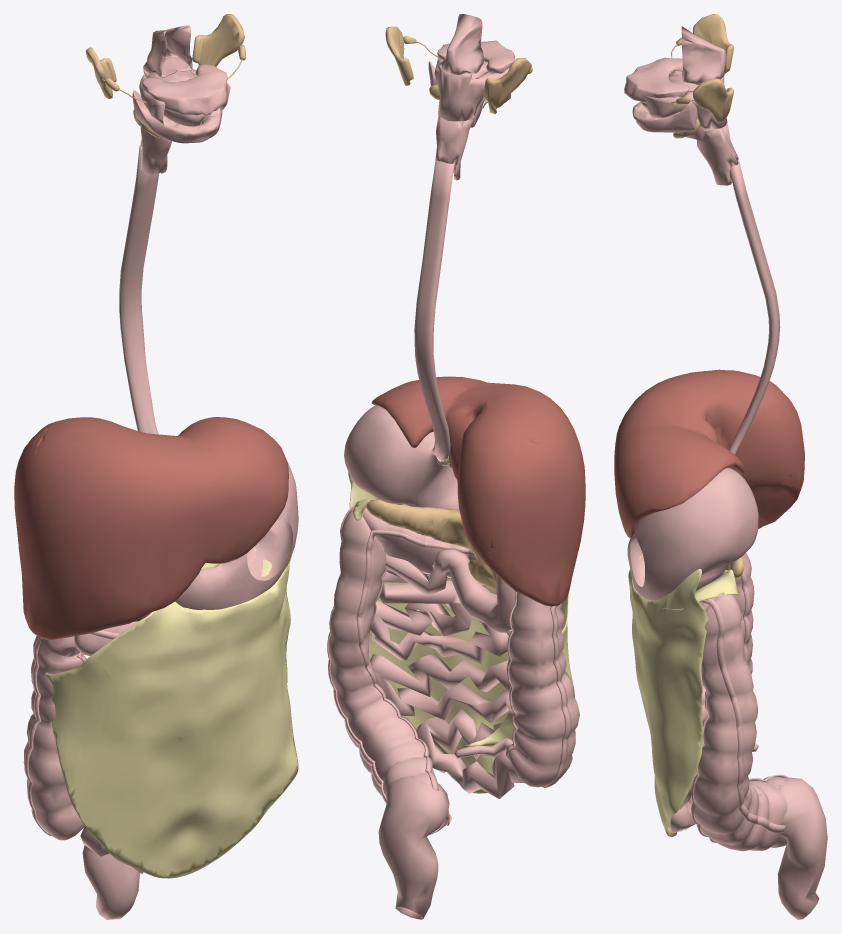
Rendered from digestive.glb.
3 renders of one model, left to right at view 1: azimuth 30°, elevation 25°; view 2: azimuth 150°, elevation 25°; view 3: azimuth 270°, elevation 25°, orthographic. The views are drawn at different scales.
Parts seen in each view (by area): view 1: DIG.greater_omentum.C, DIG.liver.C, DIG.ascending_colon.C, DIG.oesophagus.C, DIG.stomach.C, DIG.gingiva.C, DIG.sigmoid_colon.C, DIG.parotid_gland.L, DIG.nasopharynx.C, DIG.mesocolic_taenia.C, DIG.laryngopharynx.C, DIG.transverse_colon.C (+4 smaller); view 2: DIG.liver.C, DIG.jejunum.C, DIG.descending_colon.C, DIG.ascending_colon.C, DIG.stomach.C, DIG.sigmoid_colon.C, DIG.oesophagus.C, DIG.greater_omentum.C, DIG.pancreas.C, DIG.duodenum.C, DIG.free_taenia.C, DIG.oropharynx.C (+10 smaller); view 3: DIG.liver.C, DIG.greater_omentum.C, DIG.descending_colon.C, DIG.stomach.C, DIG.sigmoid_colon.C, DIG.oesophagus.C, DIG.gingiva.C, DIG.mesocolic_taenia.C, DIG.nasopharynx.C, DIG.laryngopharynx.C, DIG.parotid_gland.L, DIG.oropharynx.C (+5 smaller).
Boxes of the visible parts, x1,y1,x2,y2 form: DIG.greater_omentum.C: (44,553,298,878); DIG.liver.C: (14,417,288,639); DIG.ascending_colon.C: (23,636,84,840); DIG.oesophagus.C: (119,145,158,434); DIG.stomach.C: (175,464,298,609); DIG.gingiva.C: (132,64,227,143); DIG.sigmoid_colon.C: (82,845,139,919); DIG.parotid_gland.L: (192,14,244,66); DIG.nasopharynx.C: (143,25,192,76); DIG.mesocolic_taenia.C: (24,630,119,835); DIG.laryngopharynx.C: (140,127,171,174); DIG.transverse_colon.C: (74,548,255,655); DIG.liver.C: (371,376,585,606); DIG.jejunum.C: (370,553,524,798); DIG.descending_colon.C: (329,507,449,834); DIG.ascending_colon.C: (508,592,579,787); DIG.stomach.C: (344,405,459,510); DIG.sigmoid_colon.C: (378,775,449,919); DIG.oesophagus.C: (414,160,454,461); DIG.greater_omentum.C: (348,472,575,793); DIG.pancreas.C: (366,500,496,589); DIG.duodenum.C: (432,549,516,632); DIG.free_taenia.C: (356,530,517,790); DIG.oropharynx.C: (434,57,509,121); DIG.liver.C: (614,369,804,537); DIG.greater_omentum.C: (628,555,708,836); DIG.descending_colon.C: (693,592,792,851); DIG.stomach.C: (627,467,758,600); DIG.sigmoid_colon.C: (777,777,827,919); DIG.oesophagus.C: (729,157,780,454); DIG.gingiva.C: (624,57,697,132); DIG.mesocolic_taenia.C: (699,598,785,833); DIG.nasopharynx.C: (681,26,726,84); DIG.laryngopharynx.C: (697,122,738,185); DIG.parotid_gland.L: (693,78,733,123); DIG.oropharynx.C: (644,76,727,131).
Bounding box in the file's own units: 0.2291 × 0.7873 × 0.1714.
